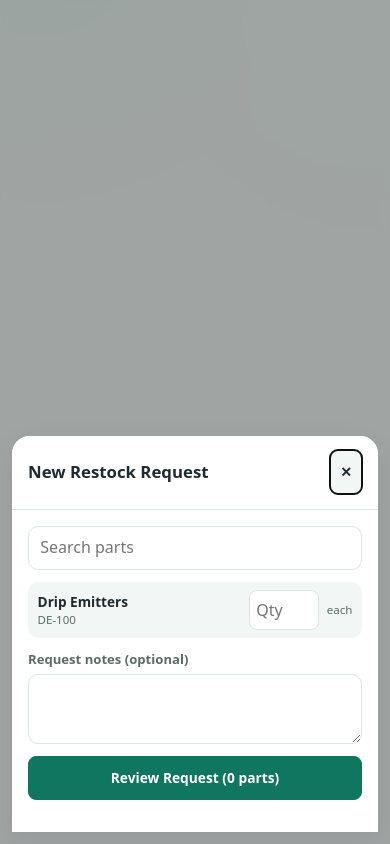
Scenario: RestockRequestSheet (create) › blocks submission when nothing has a quantity entered
Check: the text "Drip Emitters" is shown, box [38,592,128,611]
Click the button "Review Request (0 parts)".
click(195, 778)  # box [28,756,362,800]
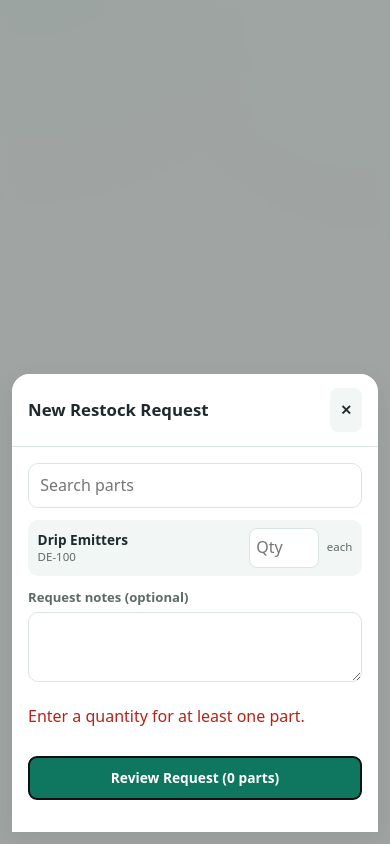
Check: the text "Enter a quantity for at least one part." is shown, box [28,705,305,727]
